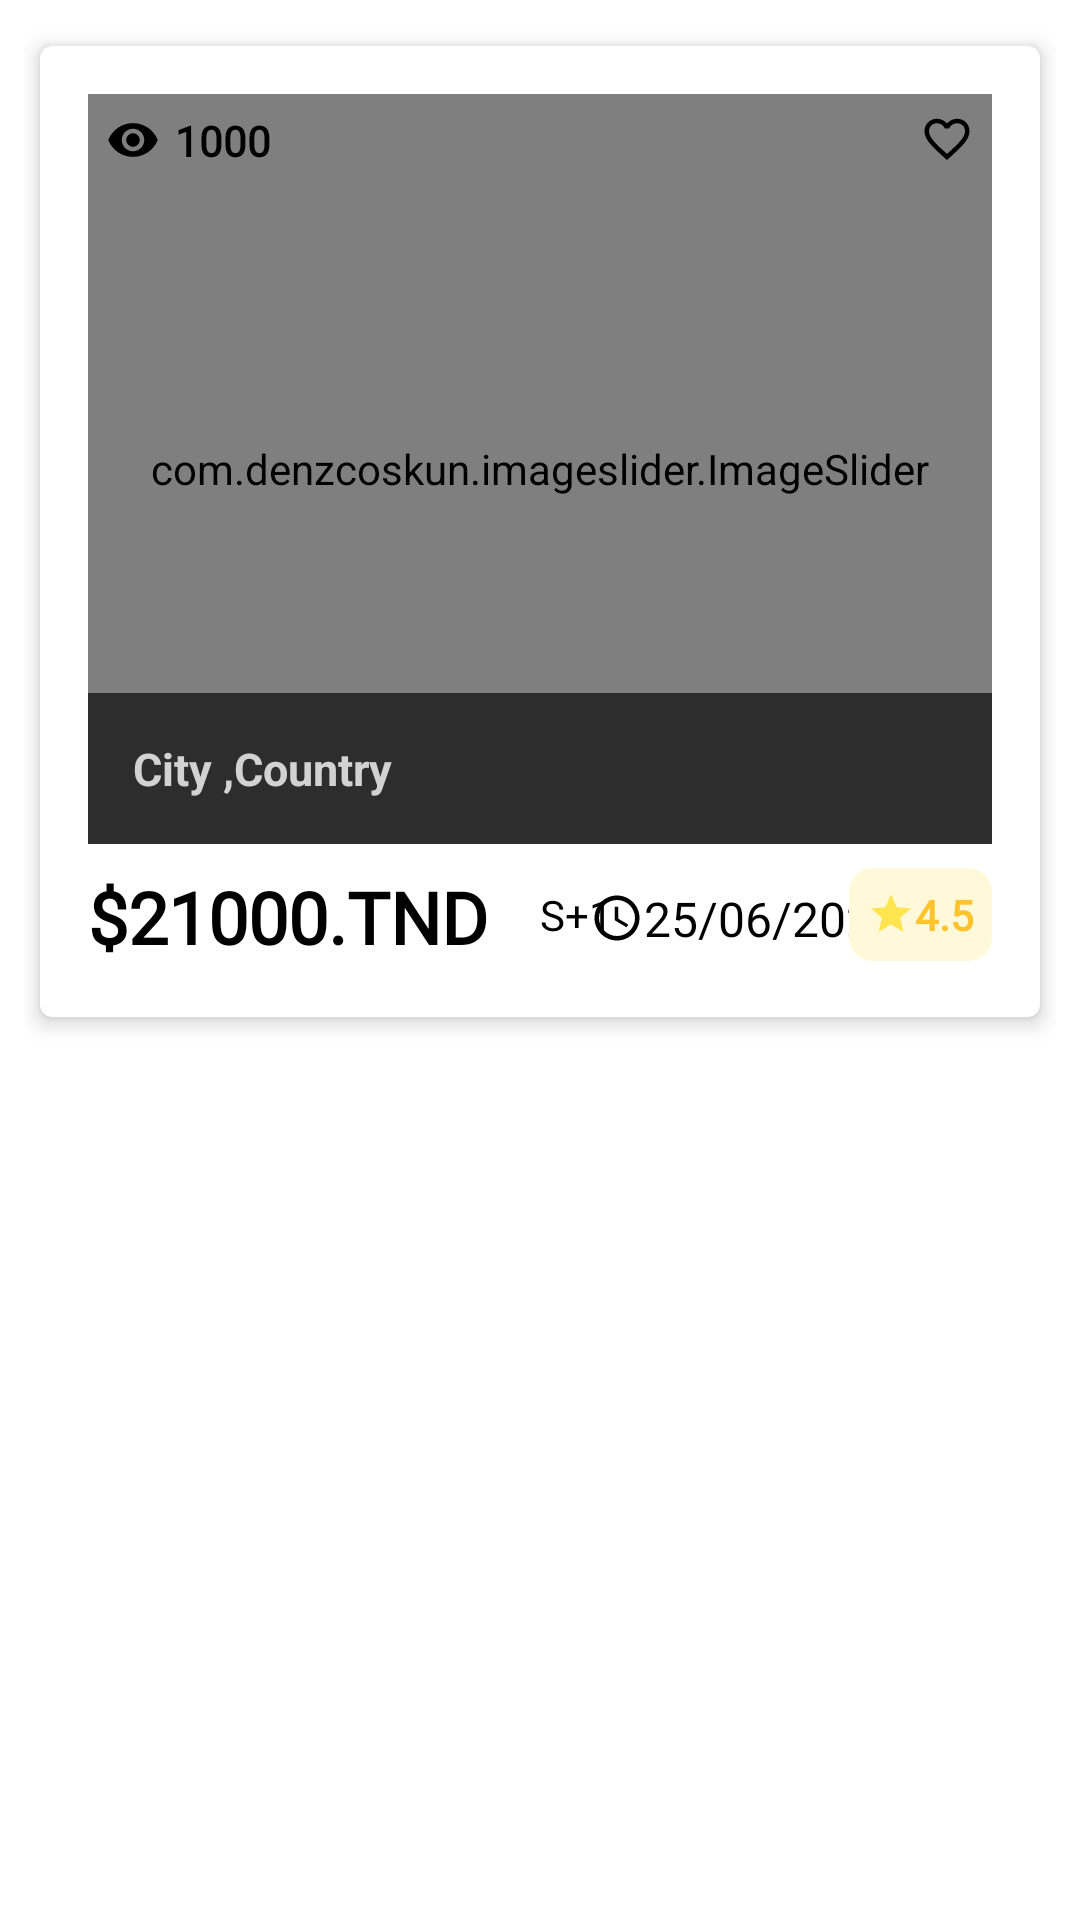

Named icons in this screenshot (1080 × 1920) and their bounding boxes, (left=x1, top=y1, right=x2, bottom=y2):
no favorite: (left=924, top=118, right=970, bottom=160)
